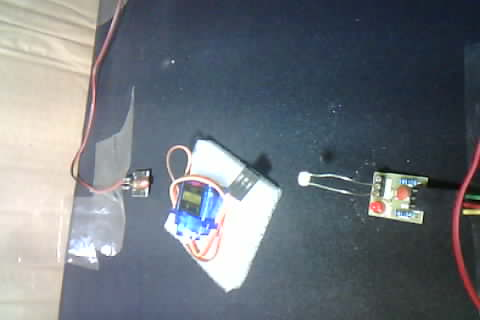motor: (161, 139, 268, 286)
